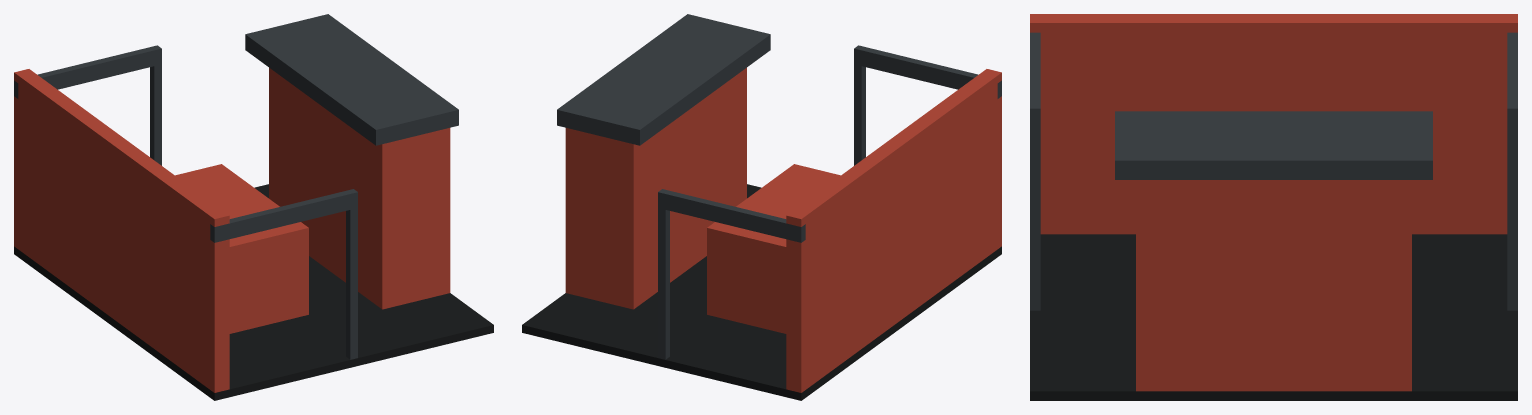
Rendered from trencher_platform.glb.
The picture shows the model from 3 angles, left to right: view 1: azimuth 30°, elevation 25°; view 2: azimuth 150°, elevation 25°; view 3: azimuth 270°, elevation 25°; orthographic projection. The views are drawn at different scales.
Parts seen in each view (by area): view 1: body:compound; view 2: body:compound; view 3: body:compound.
Part boxes in pixels (bbox=[...]): body:compound: bbox=[14, 14, 493, 400]; body:compound: bbox=[522, 14, 1001, 400]; body:compound: bbox=[1030, 14, 1517, 400].
Bounding box in the file's own units: 1.16 × 0.7812 × 1.44.
